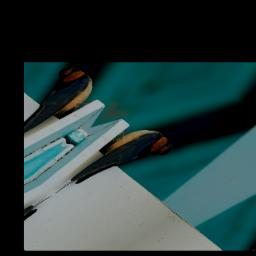Swallow: (43, 117, 183, 214)
